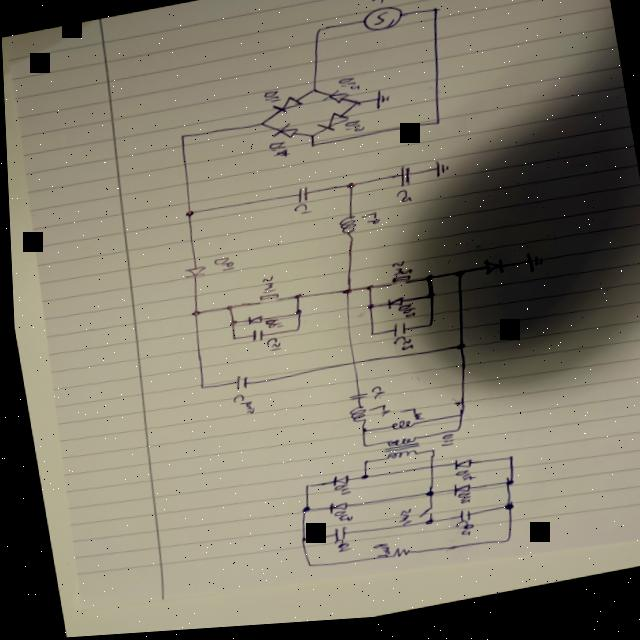capacitor: (392, 170, 410, 193), (228, 376, 245, 394), (324, 529, 341, 547), (291, 189, 307, 207), (386, 326, 403, 342), (342, 396, 363, 405), (451, 514, 464, 528), (246, 332, 260, 345)
crossover: (419, 468, 430, 475), (342, 364, 354, 370)
diode: (310, 114, 348, 138), (268, 97, 301, 120), (265, 125, 298, 146), (320, 93, 347, 111), (477, 263, 501, 283), (177, 266, 206, 282), (445, 461, 468, 476), (324, 477, 344, 494), (321, 503, 344, 517), (445, 487, 465, 503), (379, 300, 401, 314), (242, 317, 259, 328)
ground: (519, 257, 542, 280), (368, 93, 389, 114), (429, 164, 447, 184)
inductor: (333, 218, 355, 240), (343, 409, 365, 428), (383, 423, 410, 436)
junction: (309, 28, 324, 39), (495, 507, 508, 519), (340, 185, 354, 196), (179, 211, 193, 221), (496, 484, 509, 493), (448, 275, 462, 283), (292, 509, 306, 517), (252, 123, 264, 132), (184, 311, 197, 319), (416, 494, 429, 502), (416, 523, 429, 531), (449, 348, 461, 356), (336, 291, 348, 299), (287, 296, 299, 304), (287, 312, 299, 320), (360, 307, 371, 315), (222, 322, 233, 330), (353, 431, 364, 439), (427, 12, 438, 20), (303, 136, 314, 144), (353, 477, 364, 485), (428, 124, 439, 132), (190, 386, 202, 393), (445, 432, 457, 439), (350, 103, 359, 112), (420, 297, 430, 305), (219, 307, 230, 314), (419, 280, 430, 287), (359, 289, 370, 296), (306, 91, 317, 98), (494, 543, 505, 550), (448, 418, 460, 424), (362, 335, 372, 342), (305, 146, 315, 153), (422, 452, 431, 459), (499, 461, 509, 467), (353, 447, 363, 453), (292, 540, 301, 546), (355, 463, 364, 469), (288, 330, 296, 336), (225, 338, 233, 344), (421, 328, 429, 333), (299, 566, 307, 571), (297, 487, 305, 492), (175, 136, 183, 141)
resistor: (381, 550, 404, 565)
source: (357, 8, 404, 38)
switch: (250, 295, 279, 310), (382, 278, 409, 293), (410, 511, 430, 524)
text: (226, 395, 252, 421), (391, 411, 420, 429), (382, 264, 409, 283), (251, 278, 276, 298), (264, 143, 287, 163), (333, 79, 358, 97), (207, 257, 231, 275), (361, 408, 387, 424), (448, 524, 468, 544), (389, 192, 410, 210), (387, 340, 409, 357), (389, 513, 408, 532), (364, 546, 385, 563), (355, 215, 377, 231), (392, 309, 412, 326), (340, 123, 362, 138), (447, 473, 469, 488), (364, 0, 393, 11), (258, 320, 280, 334), (259, 339, 277, 355), (259, 92, 278, 107), (433, 438, 451, 453), (363, 389, 381, 404), (327, 486, 345, 501), (288, 206, 308, 219), (324, 515, 343, 527), (450, 496, 465, 511), (328, 545, 344, 557)
transformer: (374, 438, 418, 466)
